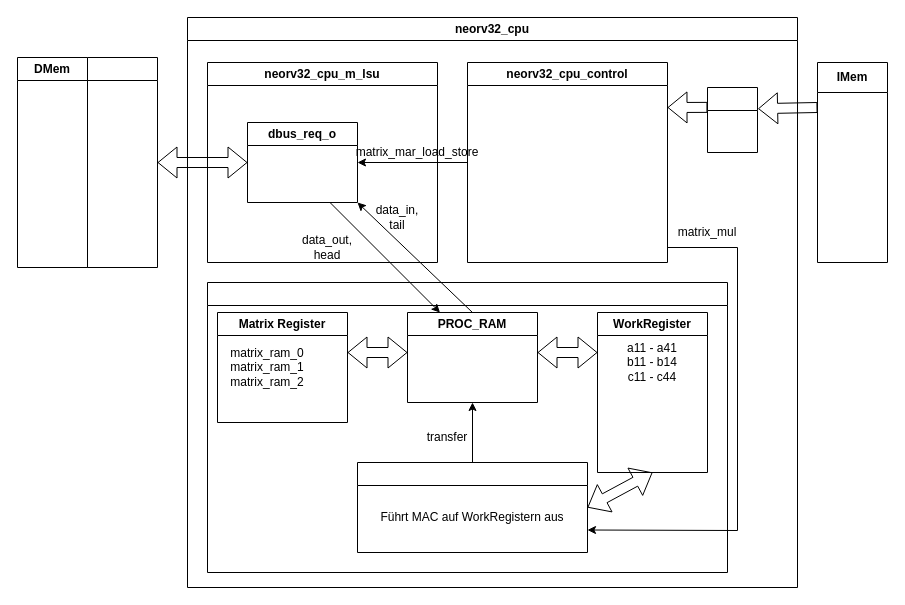
This 905x605 diagram has some shape labels left out. Each missing label, with the box of its shape:
DCache: (86, 56, 158, 268)
FE: (706, 86, 758, 152)
Matrix Engine: (206, 282, 728, 572)
PROC_MATRIX_MUL: (356, 462, 588, 552)
